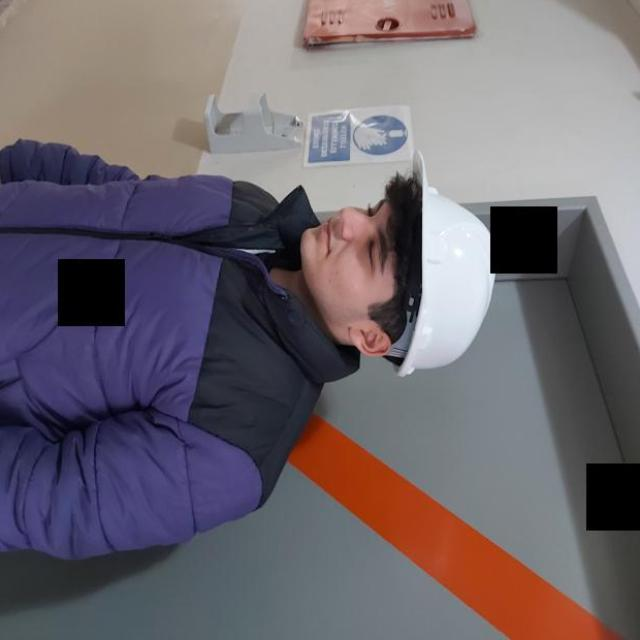helmet: (364, 109, 517, 405)
